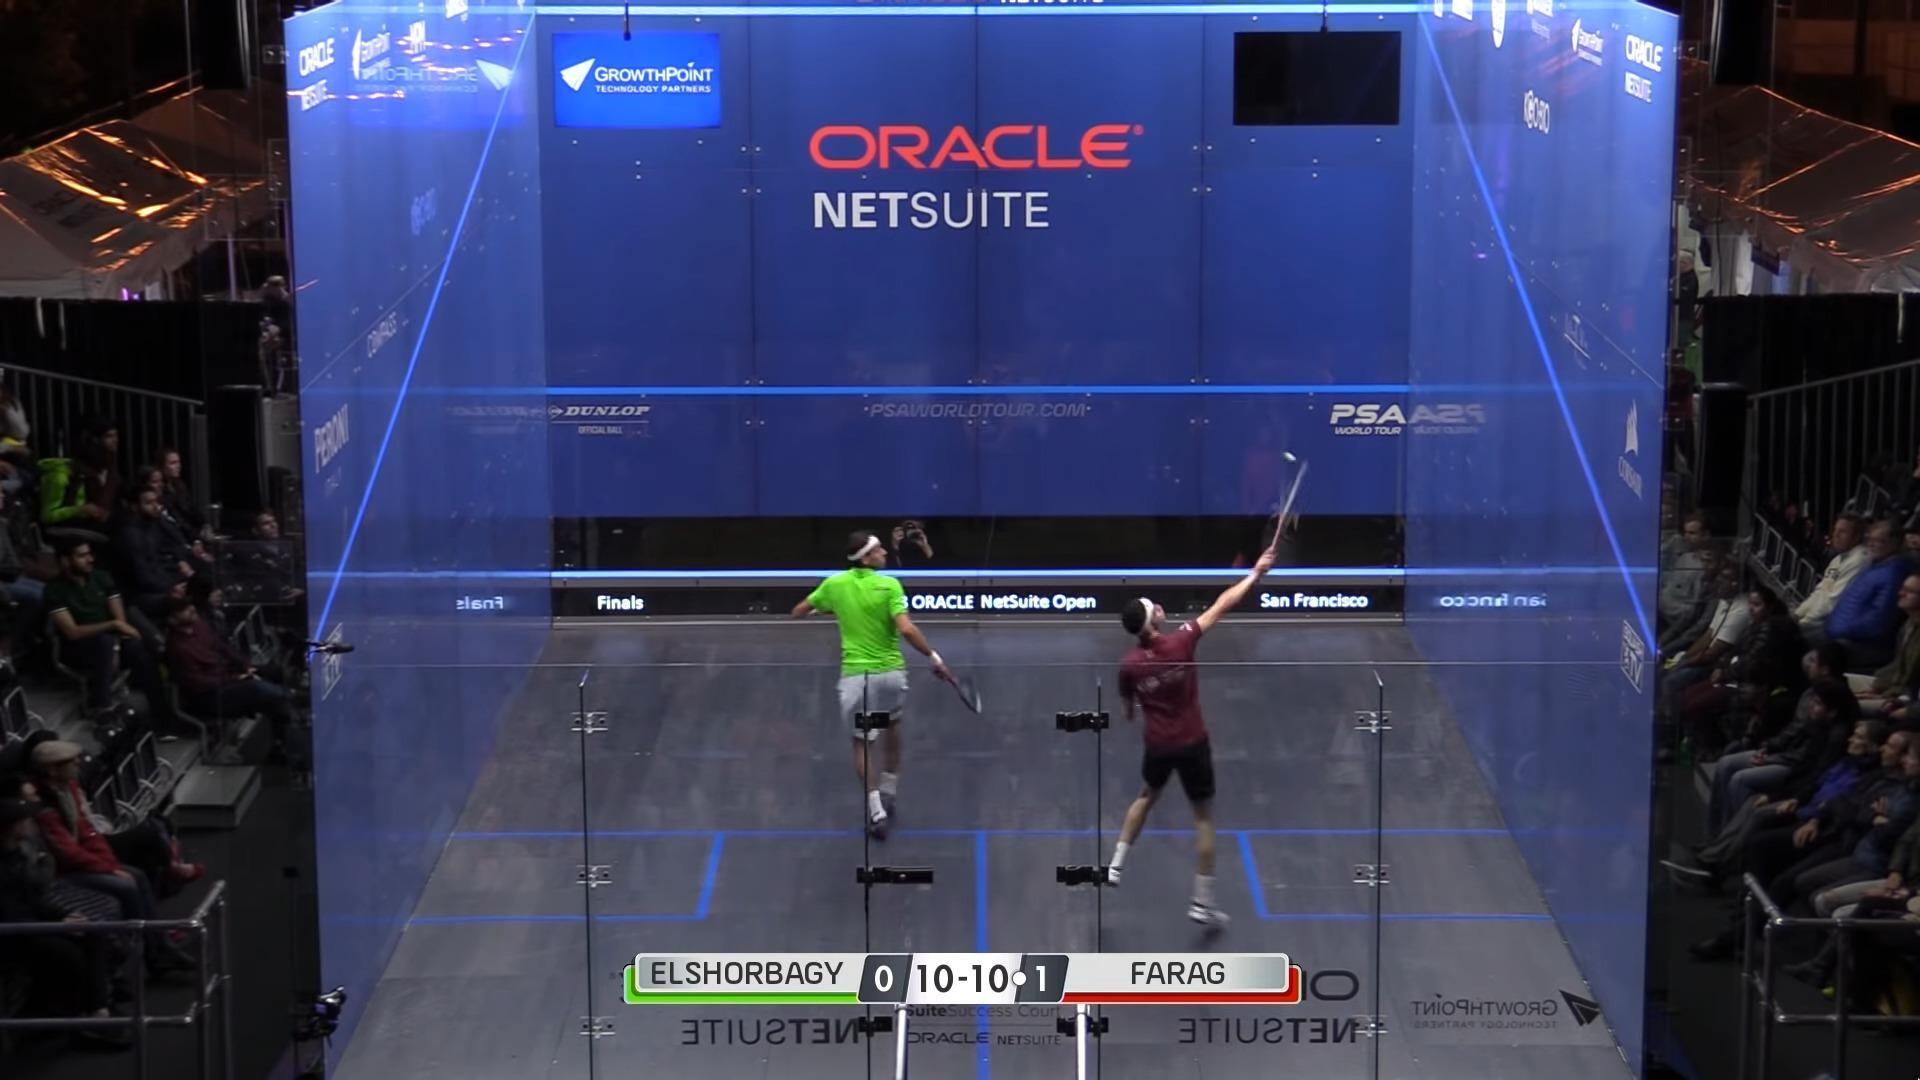Squash-Ball: (1280, 444, 1299, 467)
